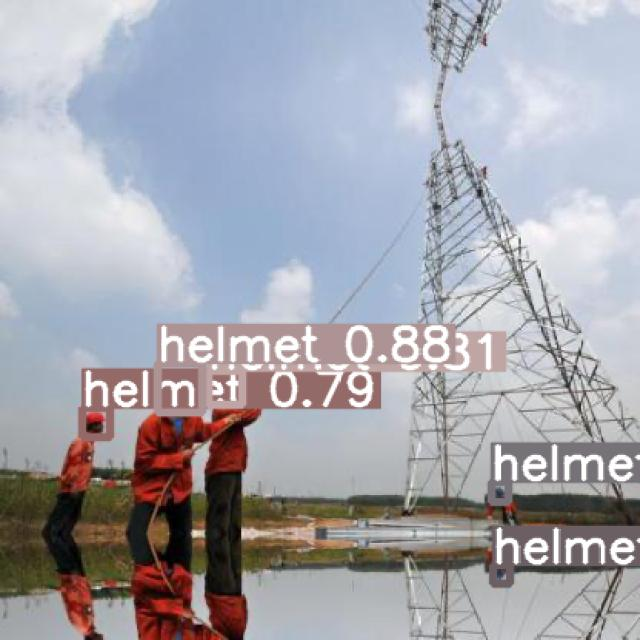helmet: (157, 362, 201, 412), (208, 370, 242, 404), (82, 407, 109, 437), (490, 481, 508, 501), (492, 564, 510, 583)
